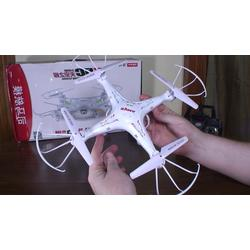drone: (34, 55, 208, 195)
